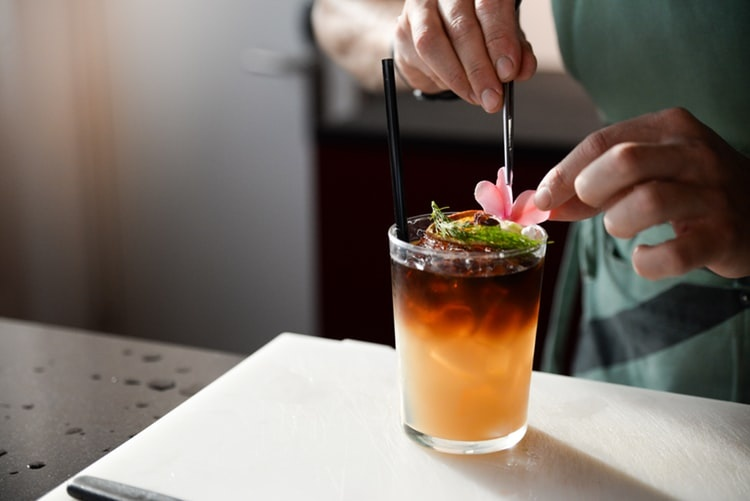whiskey: (384, 202, 553, 446)
